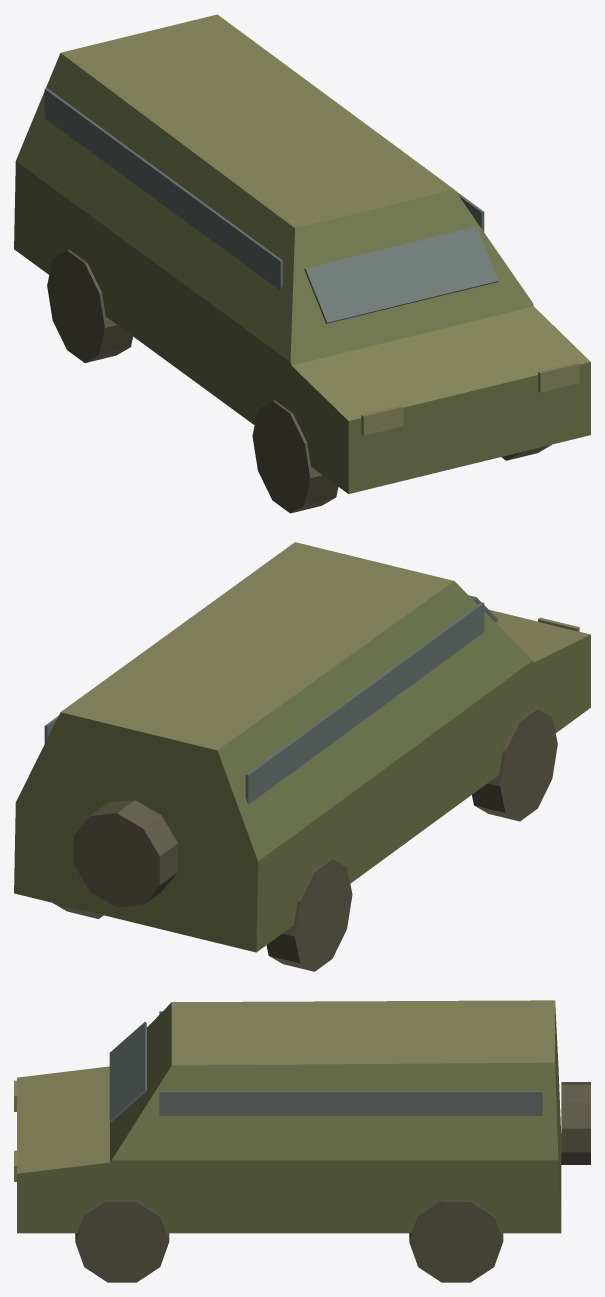
The model's file is SM_CocheCivil_Todoterreno_v0_LOD0.fbx.
3 views of the same model, one above another, from view 1: azimuth 30°, elevation 25°; view 2: azimuth 150°, elevation 25°; view 3: azimuth 270°, elevation 25° (orthographic). The views are drawn at different scales.
Visible parts, largest first — view 1: SM_coche_civil_v15_LOD0; view 2: SM_coche_civil_v15_LOD0; view 3: SM_coche_civil_v15_LOD0.
Boxes of the visible parts, x1,y1,x2,y2 form: SM_coche_civil_v15_LOD0: (14, 14, 590, 513); SM_coche_civil_v15_LOD0: (14, 542, 590, 971); SM_coche_civil_v15_LOD0: (14, 1000, 590, 1282).
Size of the model in its own units: 1.88 by 1.8 by 4.66.
